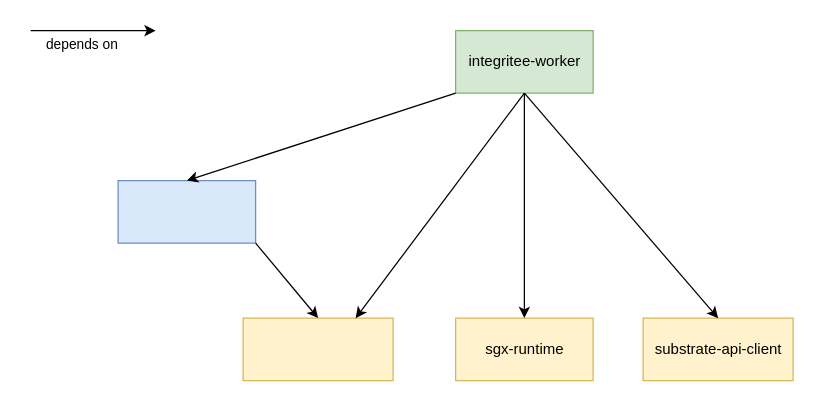
This 815x403 diagram has some shape labels left out. The shapes that lost their labels are listed below. From the top down, each one's box as (x1, y1, x2, y2) in pixels, then its label:
(117, 179, 256, 243): integritee-node
(242, 317, 393, 381): pallets
